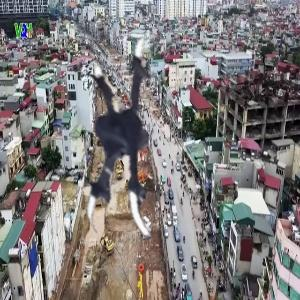drone: (43, 43, 242, 242)
